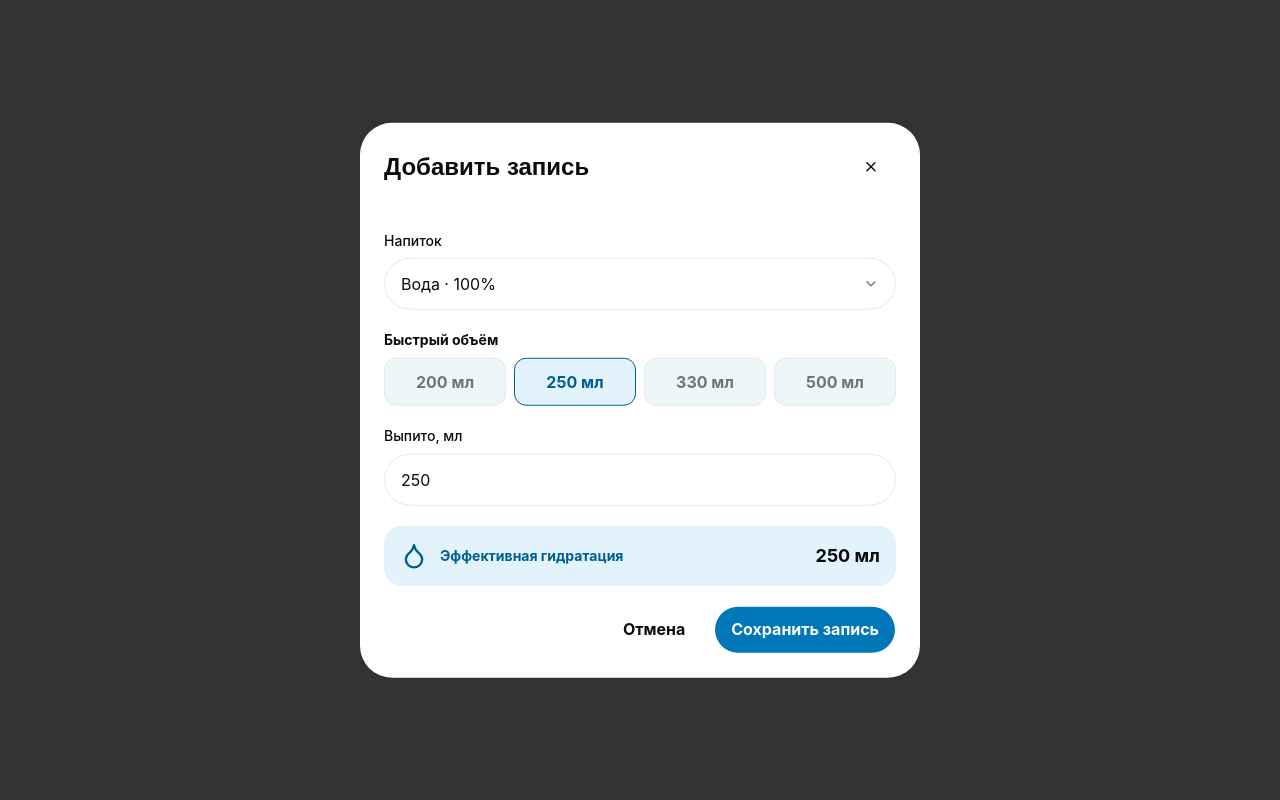
Scenario: AddEntrySheet › не позволяет сохранить чрезмерно большой объём
Replace the text in the number field labelled "Выпито, мл" with "6000" at (640, 479), box 384,453 -> 896,505
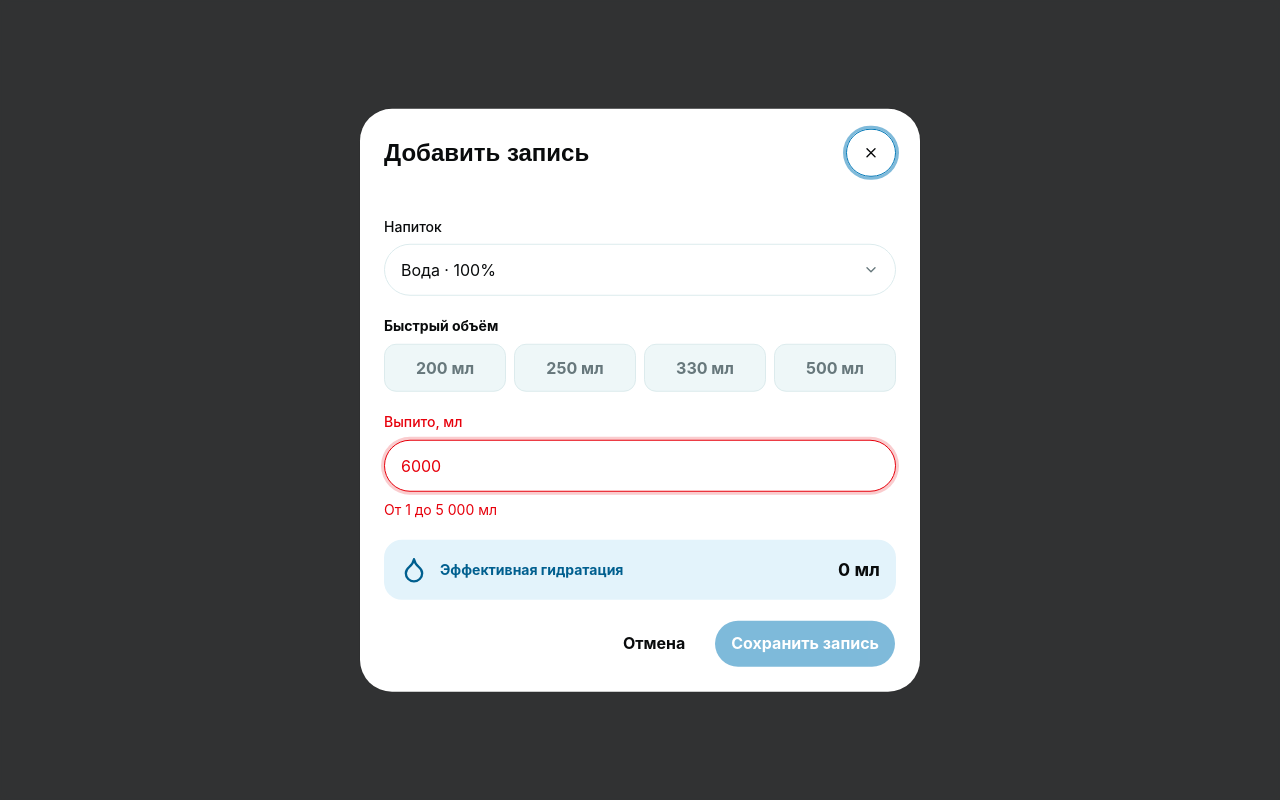
Expected: the button "Сохранить запись" is disabled, 714,619 -> 896,667
Expected: the text "От 1 до 5 000 мл" is shown, 384,500 -> 497,517
